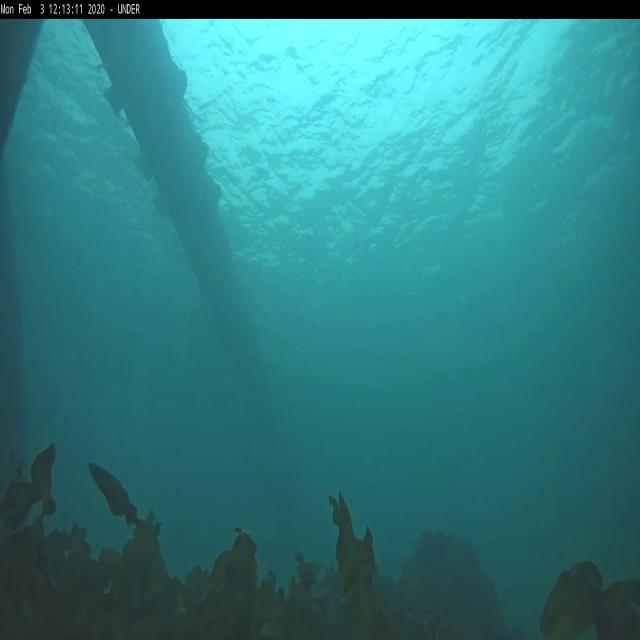fish: (86, 460, 144, 531)
